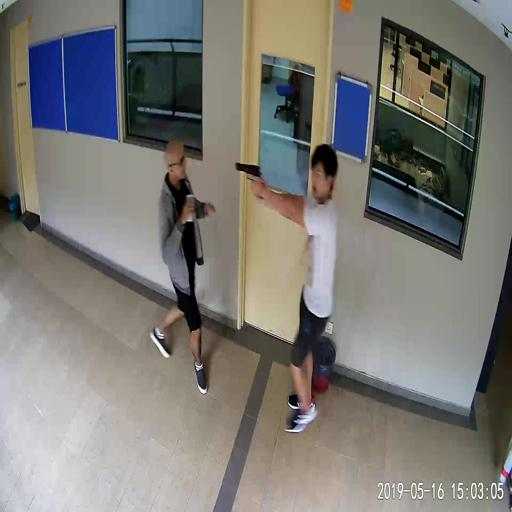pistol: (233, 158, 269, 202)
